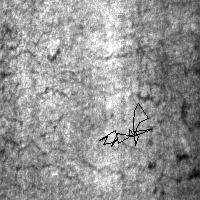crazing: (1, 18, 130, 99), (126, 29, 198, 130), (1, 107, 86, 191), (99, 103, 151, 146)
